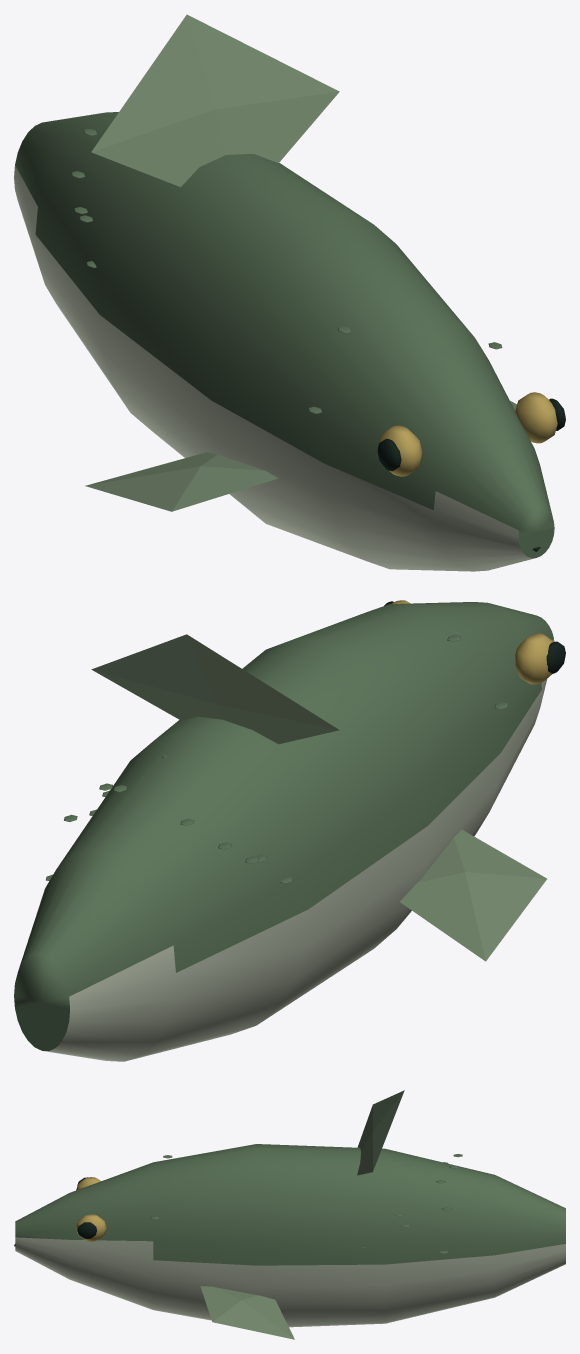
The model's file is river_fish.glb.
The picture shows the model from 3 angles, top to bottom: view 1: azimuth 30°, elevation 25°; view 2: azimuth 150°, elevation 25°; view 3: azimuth 270°, elevation 25°; orthographic projection. The views are drawn at different scales.
Parts seen in each view (by area): view 1: river_fish; view 2: river_fish; view 3: river_fish.
Part boxes in pixels (x1,y1,x2,y2): river_fish: (14, 14, 565, 571); river_fish: (14, 600, 565, 1061); river_fish: (14, 1090, 565, 1339).
Size of the model in its own units: 0.2 by 0.2 by 0.428.
